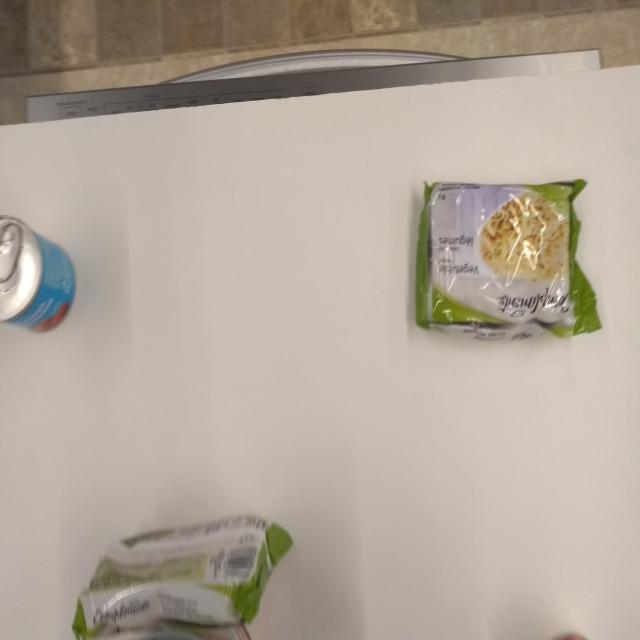noodles: (405, 172, 604, 348)
